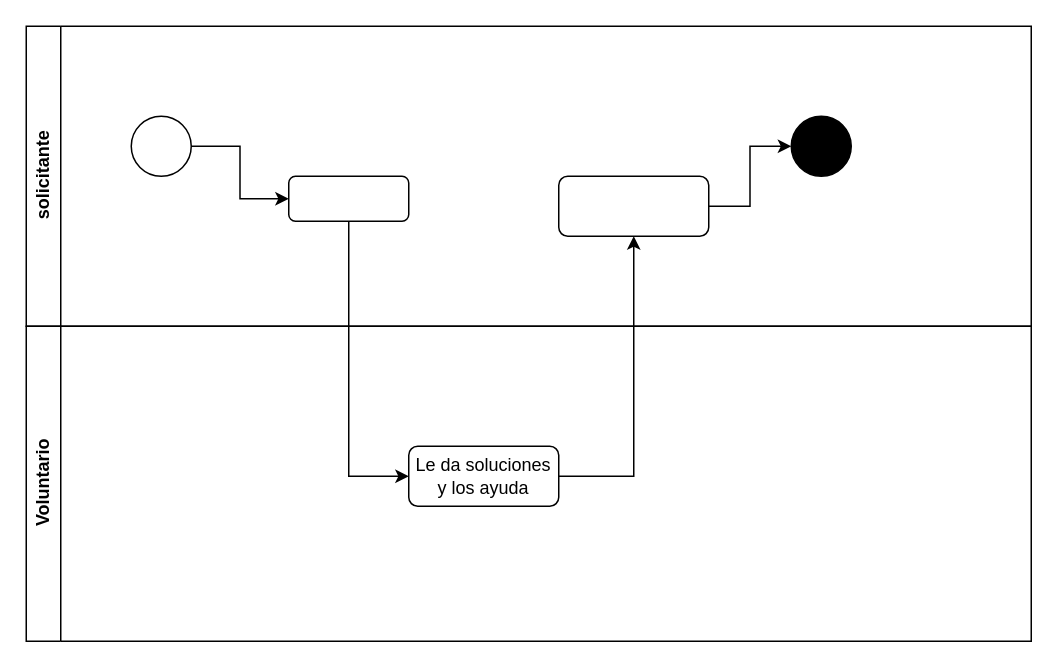
Image size: 1058x668. Some labels were removed from this diagram. Here are the shapes that lost their labels. From the top down, the centre of each, then its label:
point (348, 198): Le comunica su necesidad
point (633, 205): Finaliza el encuentro
